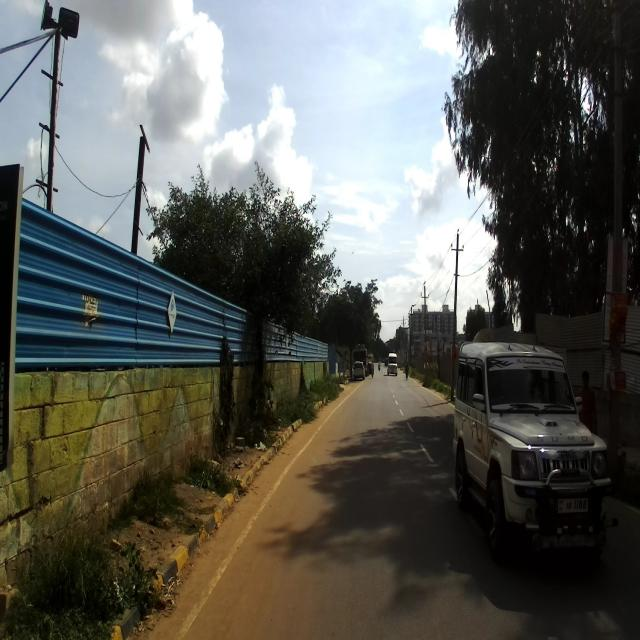Car_TATA: (452, 337, 618, 570)
mini-bus: (387, 352, 398, 376)
